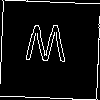W: (24, 24, 67, 72)
